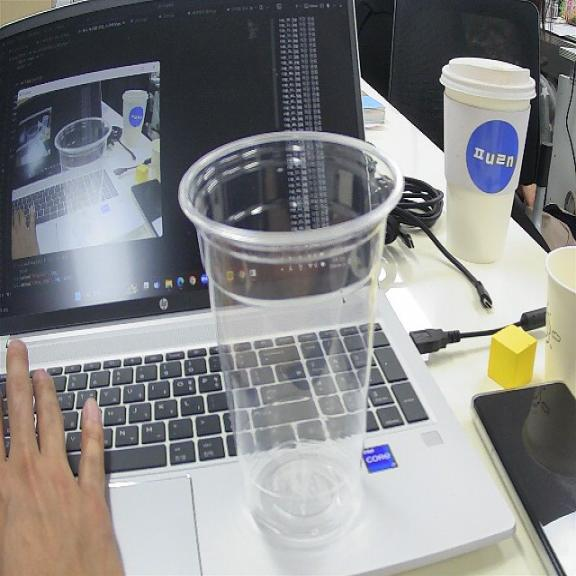Plastik: (179, 132, 403, 545)
